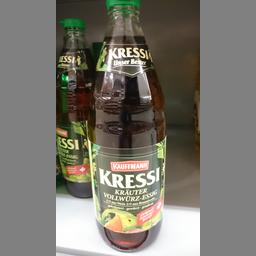vinegar: (89, 0, 168, 251), (58, 16, 92, 199)
